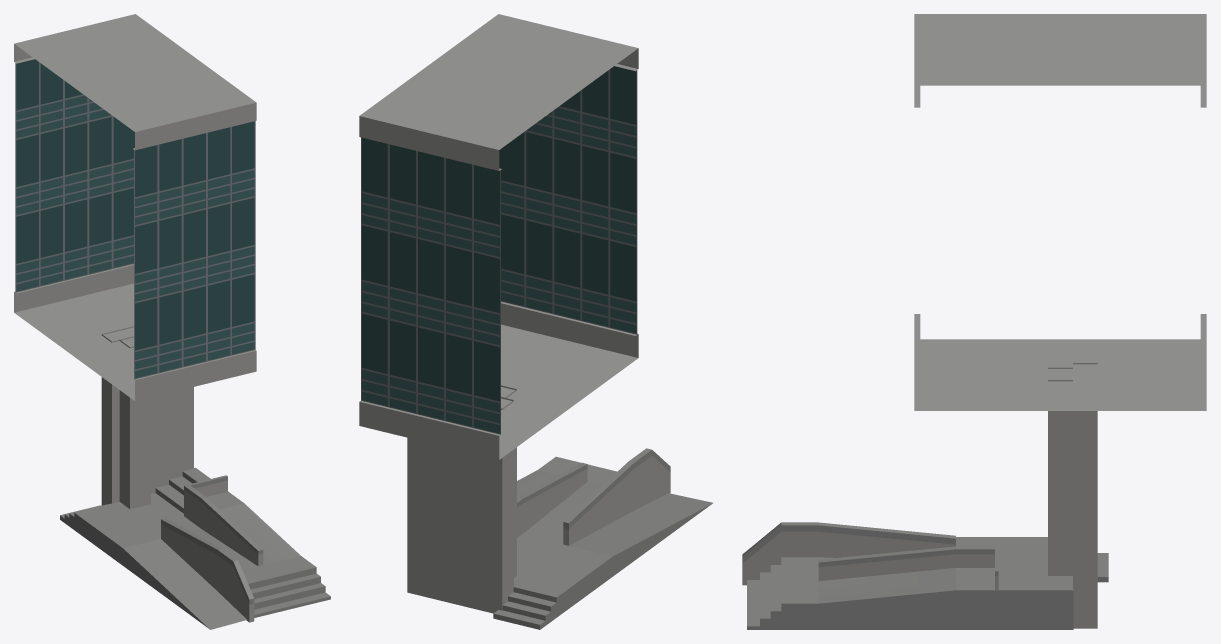
The picture shows the model from 3 angles, left to right: view 1: azimuth 30°, elevation 25°; view 2: azimuth 150°, elevation 25°; view 3: azimuth 270°, elevation 25°; orthographic projection. The views are drawn at different scales.
Visible parts, largest first — view 1: 07_08연결; view 2: 07_08연결; view 3: 07_08연결.
Part boxes in pixels (x1,y1,x2,y2): 07_08연결: (14, 14, 330, 629); 07_08연결: (359, 14, 712, 629); 07_08연결: (742, 14, 1206, 629).
Bounding box in the file's own units: 24.23 × 82 × 63.6.
